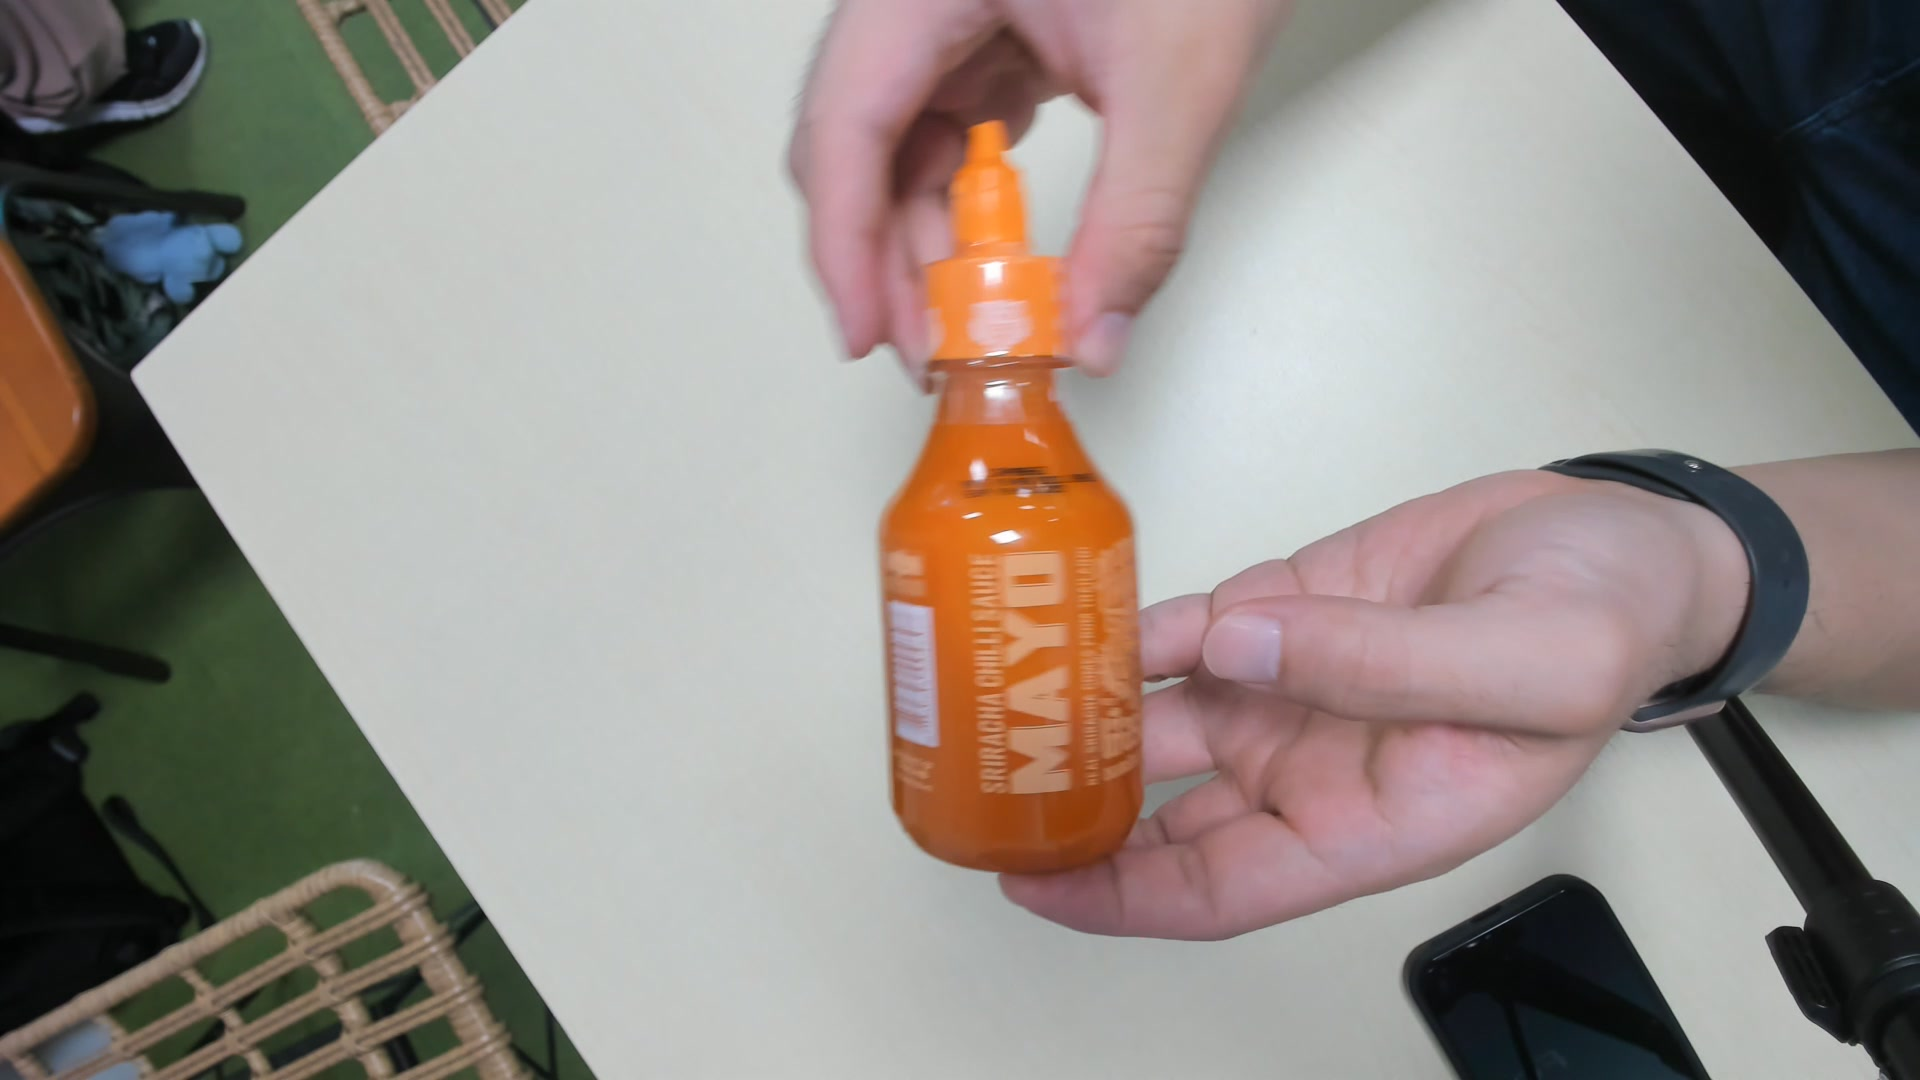OtherSauceDressing_200-299g_NonHalal_NonHealthy: (872, 125, 1150, 878)
